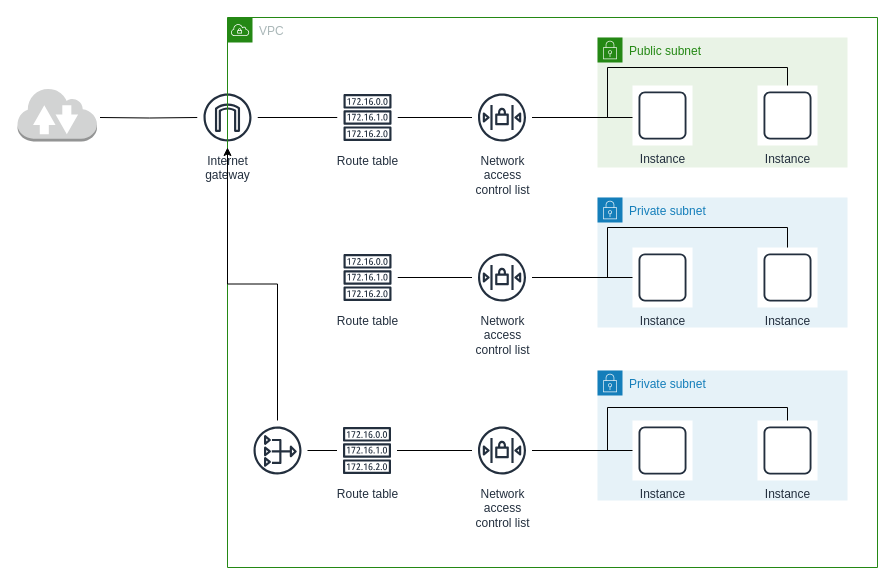
Some shapes in this 895 by 585 pixel diagram are drawn without their labels. Each missing label, with the centre of its shape:
"Internet" goes at (x=56, y=114).
"NAT gateway" goes at (x=277, y=450).
